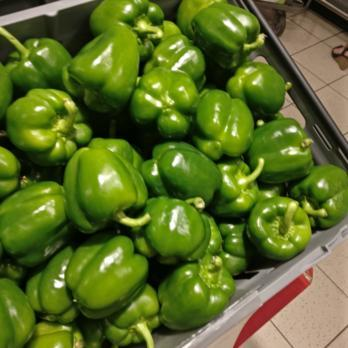Capsicum: (0, 33, 234, 321), (89, 0, 259, 282), (250, 116, 348, 254)
